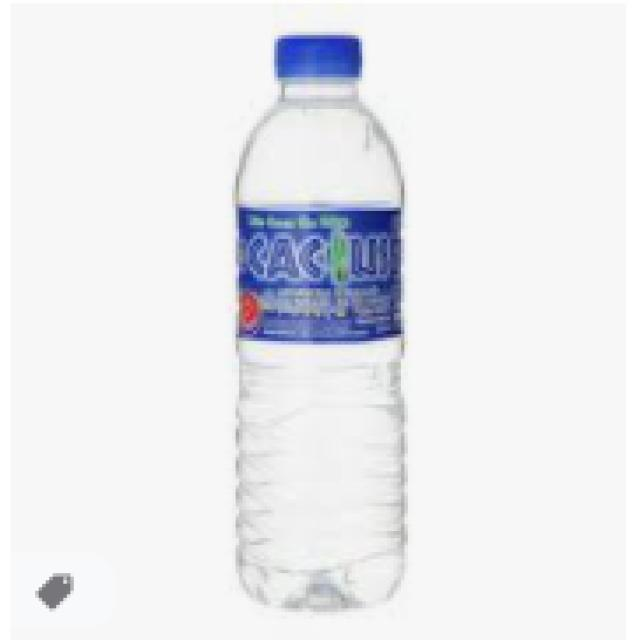plasticbottlecap: (258, 19, 392, 108)
